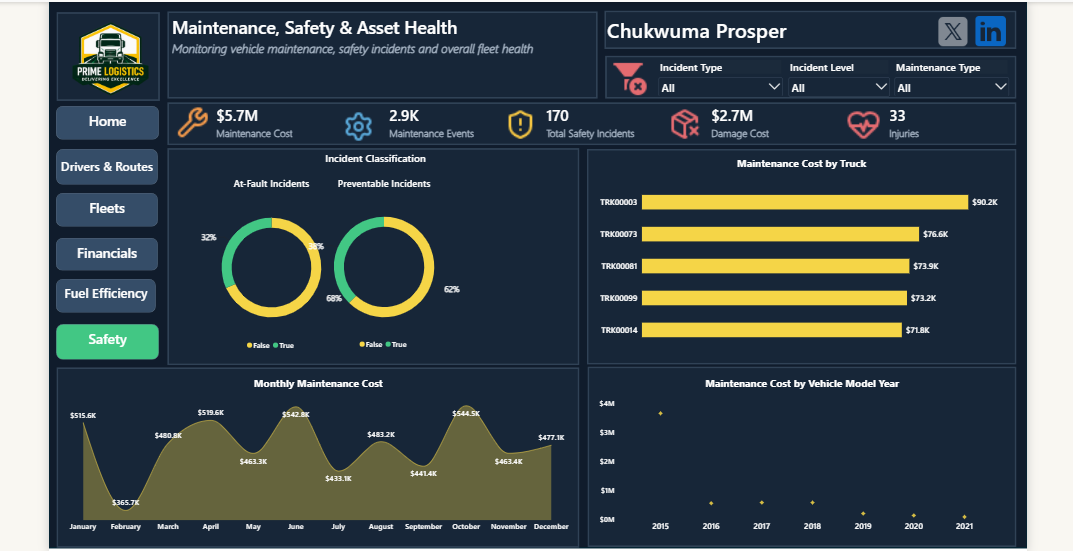

What the dashboard file says about the page in this screenshot:
{"tool":"powerbi","page":{"name":"Safety","canvas":[1920,1080],"ordinal":5},"visuals":[{"type":"textbox","title":"Maintenance, Safety & Asset Health","box":[241.5,24.8,834.1,167.2],"z":0},{"type":"cardVisual","fields":{"Data":["maintenance_records.Maintenance Cost"]},"box":[312.3,196.1,238.3,90.8],"z":0,"group":"g4"},{"type":"group","id":"g1","title":"Group 3","box":[1198.6,196.1,321.9,89.9],"z":0,"group":"g6"},{"type":"group","id":"g2","title":"Group 1","box":[1565.4,196.1,325.7,90.8],"z":1000,"group":"g6"},{"type":"donutChart","title":"At-Fault Incidents","fields":{"Category":["safety_incidents.at_fault_flag"],"Y":["CountNonNull(safety_incidents.incident_id)"]},"box":[240.8,329.3,390.7,374.8],"z":1000},{"type":"slicer","fields":{"Values":["loads.load_date.Variation.Date Hierarchy.Year"]},"box":[1192.4,113.6,254.4,70.4],"z":2000},{"type":"group","id":"g3","title":"Group 4","box":[571.9,196.1,310,90.8],"z":2000,"group":"g6"},{"type":"group","id":"g4","title":"Group 5","box":[241.5,196.1,309.1,90.8],"z":3000,"group":"g6"},{"type":"donutChart","title":"Preventable Incidents","fields":{"Category":["safety_incidents.preventable_flag"],"Y":["CountNonNull(safety_incidents.incident_id)"]},"box":[454.2,330.3,408.8,372.5],"z":3000},{"type":"group","id":"g5","title":"Group 2","box":[880.5,196.1,319.1,90.8],"z":4000,"group":"g6"},{"type":"cardVisual","fields":{"Data":["maintenance_records.Damage Cost"]},"box":[1285.9,196.1,233.6,90.8],"z":4000,"group":"g1"},{"type":"textbox","title":"Incident Classification","box":[240.8,288.5,799.5,34.1],"z":4000},{"type":"slicer","fields":{"Values":["customers.account_status"]},"box":[1446.8,113.6,209,75],"z":5000},{"type":"cardVisual","fields":{"Data":["maintenance_records.Maintenance Events"]},"box":[653,196.1,228.9,90.8],"z":5000,"group":"g3"},{"type":"image","title":"Clear File","box":[1099.3,109,75,72.7],"z":8000},{"type":"cardVisual","fields":{"Data":["safety_incidents.Total Safety Incidents"]},"box":[961.2,196.1,238.3,90.8],"z":8000,"group":"g5"},{"type":"image","box":[1806.5,21.6,84.4,70.7],"z":9000},{"type":"image","box":[1726,23.6,98.2,68.7],"z":10000},{"type":"actionButton","box":[14.5,375.7,200.3,66.1],"z":11000},{"type":"actionButton","box":[14.5,544.2,196.1,66.1],"z":12000},{"type":"actionButton","box":[14.5,462.9,200.3,64],"z":13000},{"type":"actionButton","box":[14.5,631.7,202.3,70.2],"z":14000},{"type":"cardVisual","fields":{"Data":["safety_incidents.Injuries"]},"box":[1633.2,196.1,257.2,90.8],"z":15000,"group":"g2"},{"type":"actionButton","box":[14.5,287.8,200.3,70.2],"z":15000},{"type":"actionButton","box":[14.5,204.4,202.3,66.1],"z":16000},{"type":"image","box":[571.9,213.9,73.2,61.4],"z":16000,"group":"g3"},{"type":"textbox","title":"Chukwuma Prosper","box":[1096.3,26.8,491.4,64],"z":17000},{"type":"image","box":[880.5,209.7,92,61.3],"z":17000,"group":"g5"},{"type":"image","box":[18.6,24.8,196.1,167.2],"z":18000},{"type":"image","box":[1198.6,208.7,101.5,63.1],"z":19000,"group":"g1"},{"type":"clusteredBarChart","title":"Maintenance Cost by Truck","fields":{"Category":["trucks.truck_id"],"Y":["maintenance_records.Maintenance Cost"]},"box":[1065.2,288.5,826.8,413.4],"z":19000},{"type":"image","box":[1565.4,206.8,69,68.1],"z":20000,"group":"g2"},{"type":"scatterChart","title":"Maintenance Cost by Vehicle Model Year","fields":{"X":["trucks.model_year"],"Y":["maintenance_records.Maintenance Cost"]},"box":[1065.2,720,829,340.7],"z":20000},{"type":"areaChart","title":"Monthly Maintenance Cost","fields":{"Category":["maintenance_records.maintenance_date.Variation.Date Hierarchy.Month"],"Y":["maintenance_records.Maintenance Cost"]},"box":[18.2,720,1022.1,340.7],"z":21000},{"type":"image","box":[241.5,203.5,82.6,63.8],"z":24000,"group":"g4"},{"type":"group","id":"g6","title":"Group 6","box":[241.5,196.1,1649.5,90.8],"z":25002},{"type":"slicer","fields":{"Values":["maintenance_records.maintenance_type"]},"box":[1655.7,113.5,235.4,70.2],"z":25003}]}

Visuals, with their boxes on the page's 1920x1080 design canvas (x1, y1, x2, y2). These are canvas units, not pixel positions in the 1073x551 screenshot, which may show the page scaled, cropped or inside an application window:
"Maintenance, Safety & Asset Health" textbox: box=[242, 25, 1076, 192]
cardVisual - maintenance_records.Maintenance Cost: box=[312, 196, 551, 287]
"Group 3" group: box=[1199, 196, 1520, 286]
"Group 1" group: box=[1565, 196, 1891, 287]
"At-Fault Incidents" donutChart: box=[241, 329, 632, 704]
slicer - loads.load_date.Variation.Date Hierarchy.Year: box=[1192, 114, 1447, 184]
"Group 4" group: box=[572, 196, 882, 287]
"Group 5" group: box=[242, 196, 551, 287]
"Preventable Incidents" donutChart: box=[454, 330, 863, 703]
"Group 2" group: box=[880, 196, 1200, 287]
cardVisual - maintenance_records.Damage Cost: box=[1286, 196, 1520, 287]
"Incident Classification" textbox: box=[241, 288, 1040, 323]
slicer - customers.account_status: box=[1447, 114, 1656, 189]
cardVisual - maintenance_records.Maintenance Events: box=[653, 196, 882, 287]
"Clear File" image: box=[1099, 109, 1174, 182]
cardVisual - safety_incidents.Total Safety Incidents: box=[961, 196, 1200, 287]
image: box=[1806, 22, 1891, 92]
image: box=[1726, 24, 1824, 92]
actionButton: box=[14, 376, 215, 442]
actionButton: box=[14, 544, 211, 610]
actionButton: box=[14, 463, 215, 527]
actionButton: box=[14, 632, 217, 702]
cardVisual - safety_incidents.Injuries: box=[1633, 196, 1890, 287]
actionButton: box=[14, 288, 215, 358]
actionButton: box=[14, 204, 217, 270]
image: box=[572, 214, 645, 275]
"Chukwuma Prosper" textbox: box=[1096, 27, 1588, 91]
image: box=[880, 210, 972, 271]
image: box=[19, 25, 215, 192]
image: box=[1199, 209, 1300, 272]
"Maintenance Cost by Truck" clusteredBarChart: box=[1065, 288, 1892, 702]
image: box=[1565, 207, 1634, 275]
"Maintenance Cost by Vehicle Model Year" scatterChart: box=[1065, 720, 1894, 1061]
"Monthly Maintenance Cost" areaChart: box=[18, 720, 1040, 1061]
image: box=[242, 204, 324, 267]
"Group 6" group: box=[242, 196, 1891, 287]
slicer - maintenance_records.maintenance_type: box=[1656, 114, 1891, 184]
